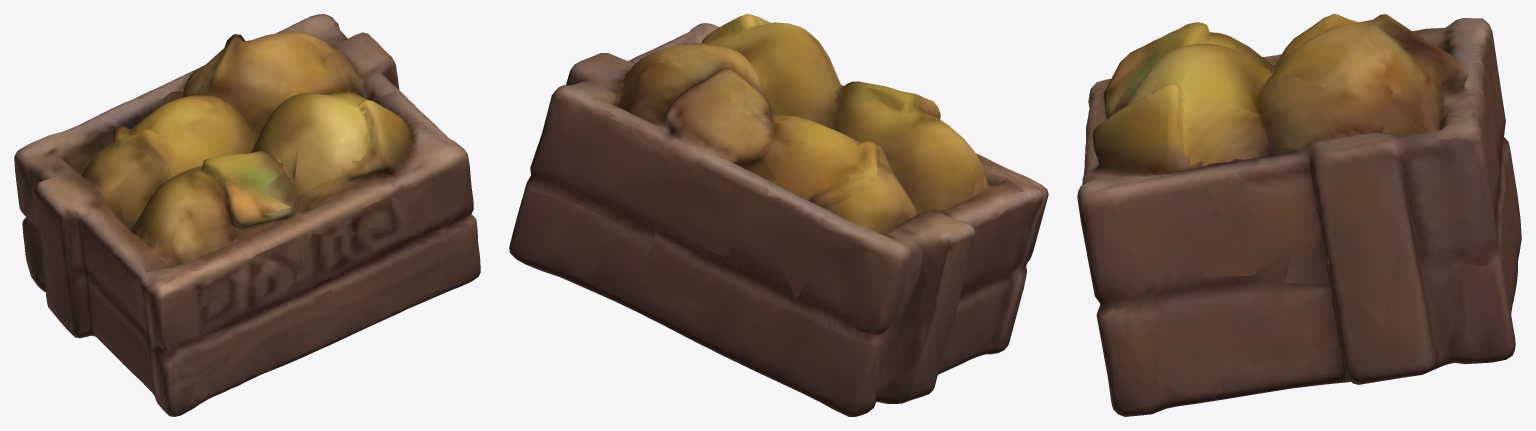
Rendered from v16_caixa_frutas.glb.
3 renders of one model, left to right at view 1: azimuth 30°, elevation 25°; view 2: azimuth 150°, elevation 25°; view 3: azimuth 270°, elevation 25°, orthographic. The views are drawn at different scales.
Visible parts, largest first — view 1: v16_caixa_frutas; view 2: v16_caixa_frutas; view 3: v16_caixa_frutas.
Boxes of the visible parts, box(x1,y1,x2,y2) form: v16_caixa_frutas: box(14, 14, 480, 416); v16_caixa_frutas: box(509, 14, 1048, 416); v16_caixa_frutas: box(1077, 14, 1521, 416).
Size of the model in its own units: 0.5258 by 0.3861 by 0.3918.
1 material, 1 textured.
